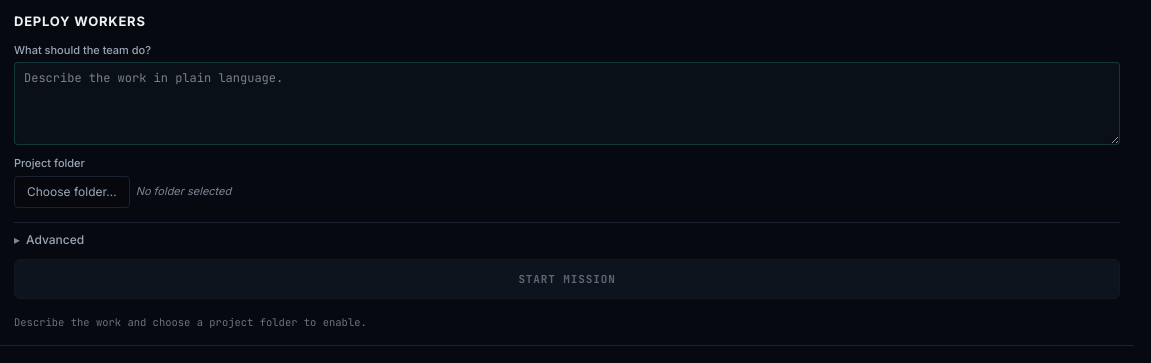
Test: DeployPanel (unified team-launch surface) › surfaces a startMission error inline without losing the form state
Type "Try thing" into the text box named "mission objective".
click(567, 104); type("Try thing")  # box [14, 62, 1120, 145]
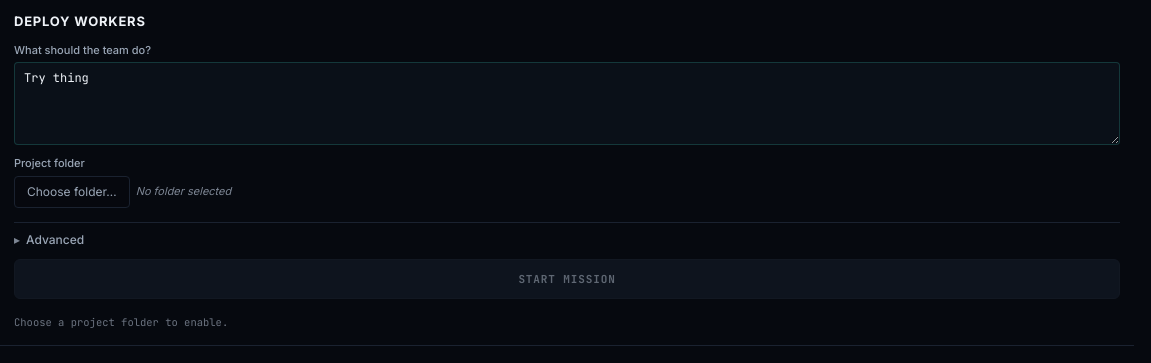
Click the button with aria-label "browse for project folder".
click(72, 192)  # box [14, 176, 130, 208]
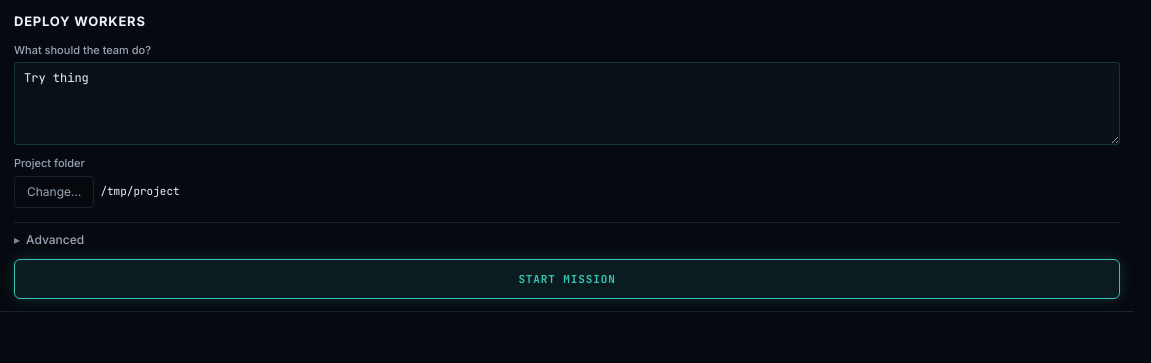
Result: the text "/tmp/project" is shown at [100, 184, 180, 198]
Click the button "Start mission".
click(567, 279)  # box [14, 259, 1120, 299]
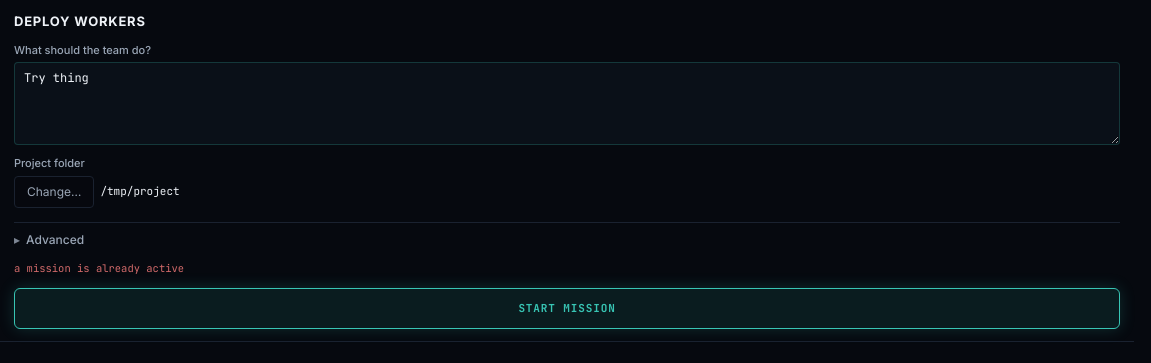
Result: the text "/tmp/project" is shown at [100, 184, 180, 198]
Result: the text "a mission is already active" is shown at [14, 261, 184, 275]
